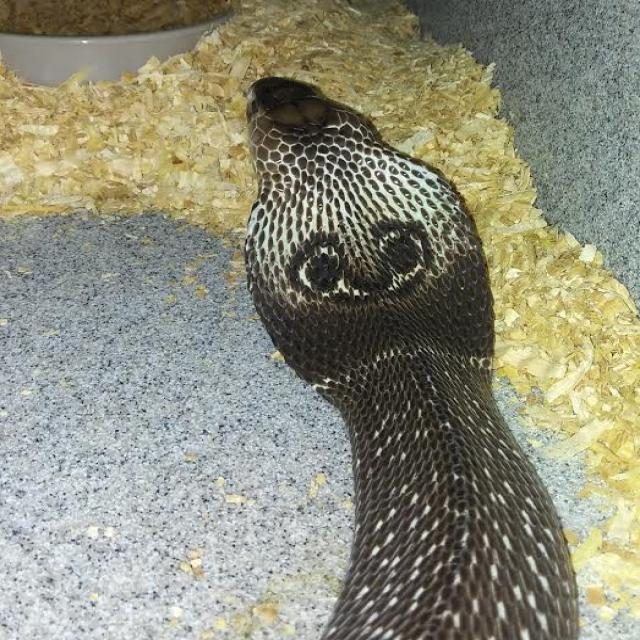Snake: (240, 73, 580, 638)
